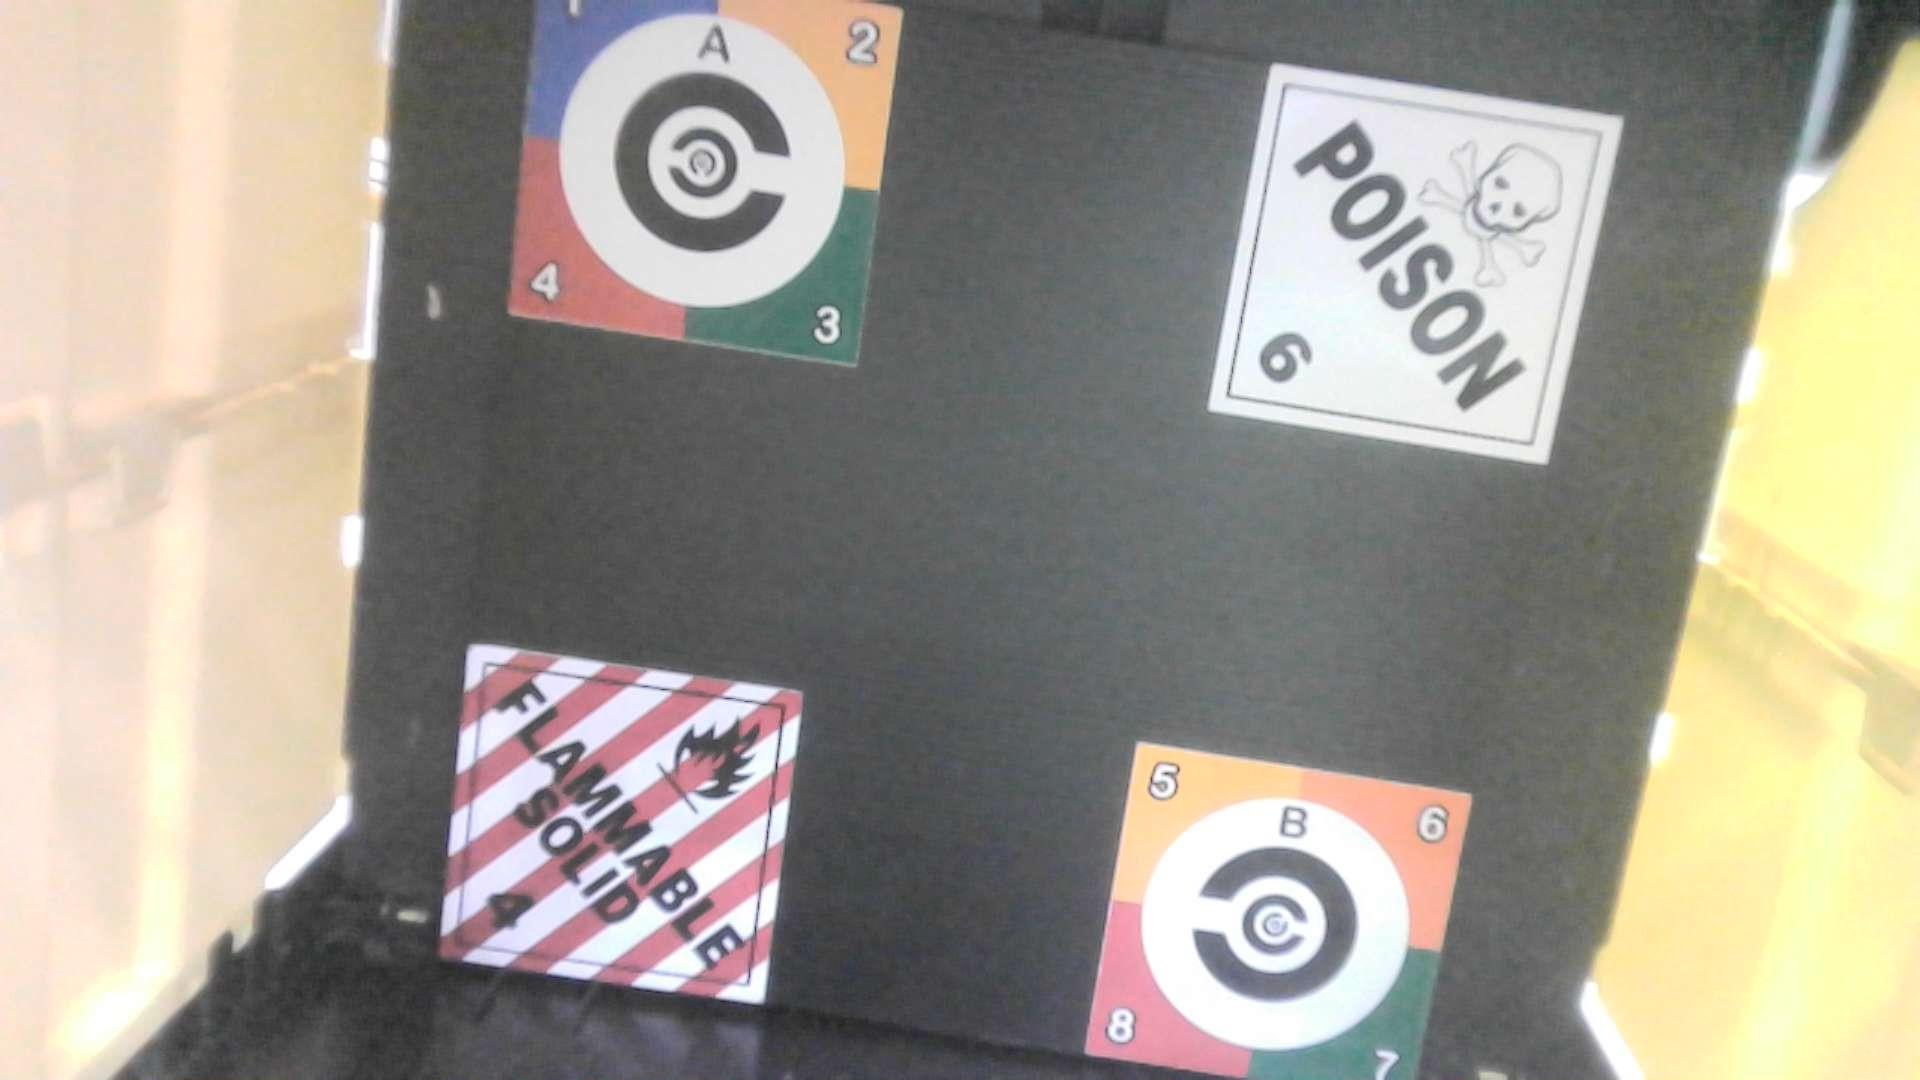flammable-solid: (434, 632, 816, 1018)
poison: (1199, 62, 1636, 467)
